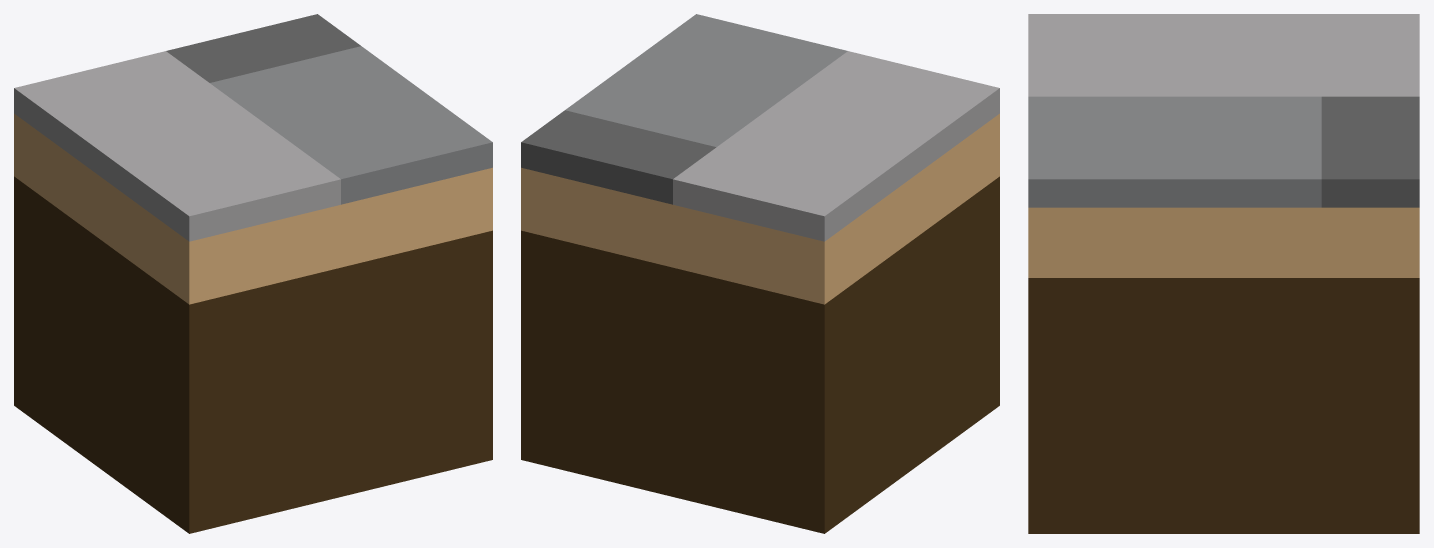
File: floor_lib.fbx
3 renders of one model, left to right at view 1: azimuth 30°, elevation 25°; view 2: azimuth 150°, elevation 25°; view 3: azimuth 270°, elevation 25°, orthographic. The views are drawn at different scales.
Parts seen in each view (by area): view 1: Floor.003; view 2: Floor.003; view 3: Floor.003.
Boxes of the visible parts, x1,y1,x2,y2 form: Floor.003: (14,14,492,533); Floor.003: (521,14,999,533); Floor.003: (1028,14,1419,533).
Bounding box in the file's own units: 1 × 1 × 1.
